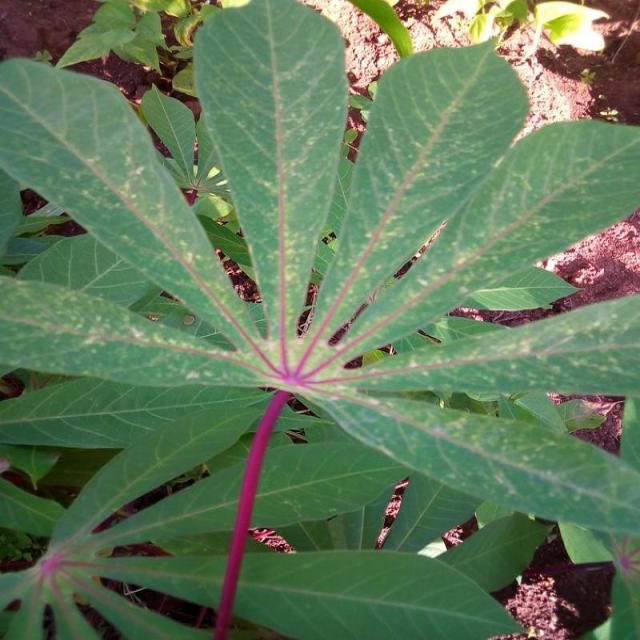cassava leaf: (2, 2, 640, 636), (193, 0, 350, 351)
